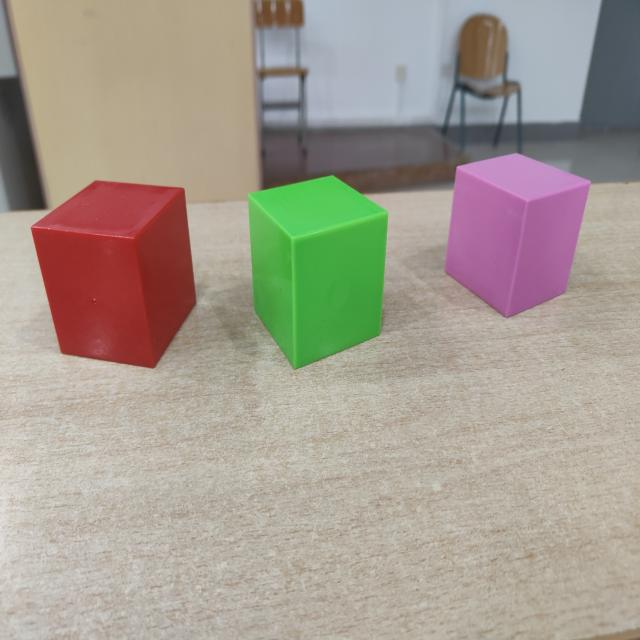green: (247, 176, 390, 370)
pink: (444, 154, 591, 320)
red: (30, 182, 198, 370)
